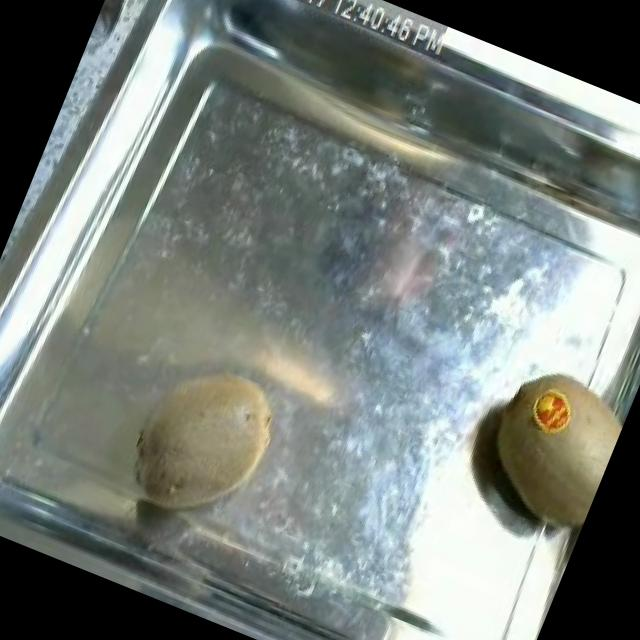Fruit: (102, 333, 304, 550), (456, 348, 634, 546)
